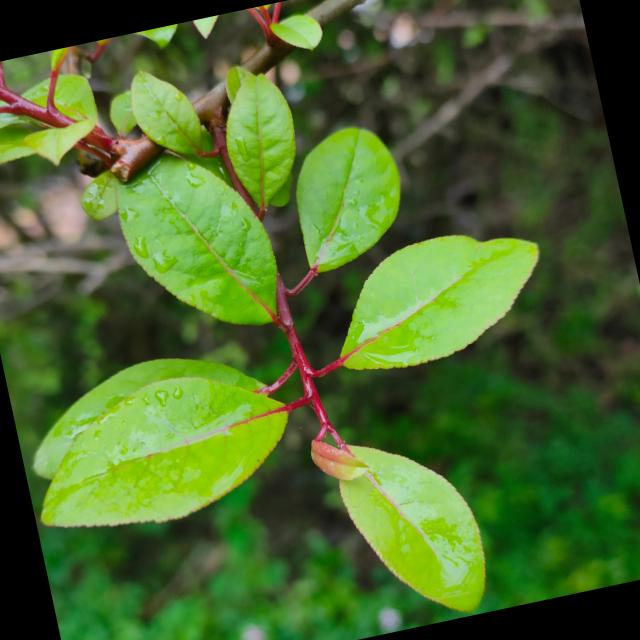Gugal: (0, 0, 536, 640)
